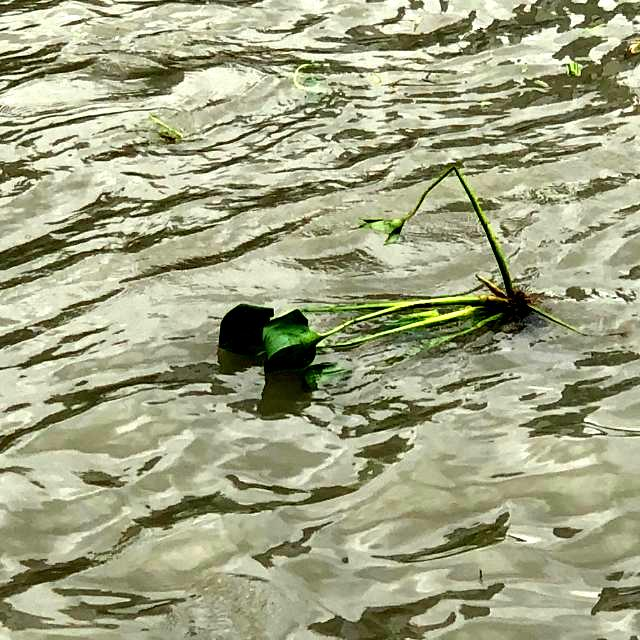water-hyacinth: (215, 157, 564, 379)
